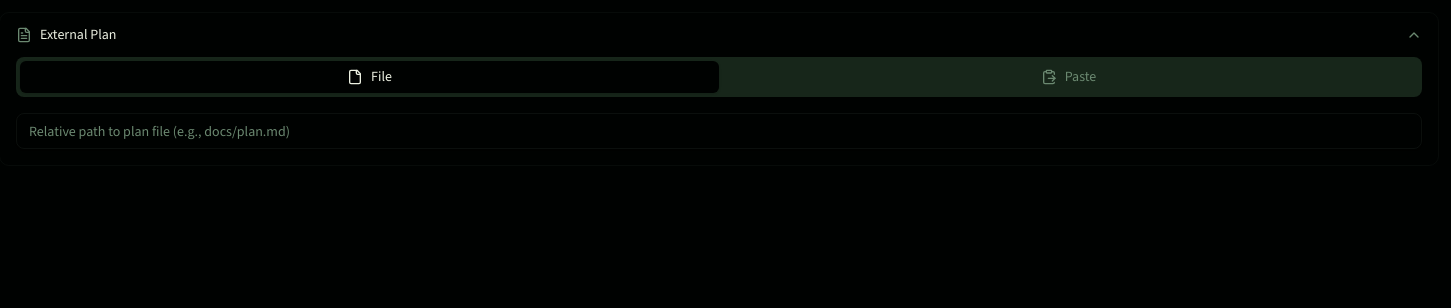
Test case: PlanImportSection › input modes › switches to "Paste Content" mode when toggled
# Click the "Paste" toggle
Step 1. Click the radio button labelled "Paste" → (1068, 77), box [719, 61, 1418, 93]
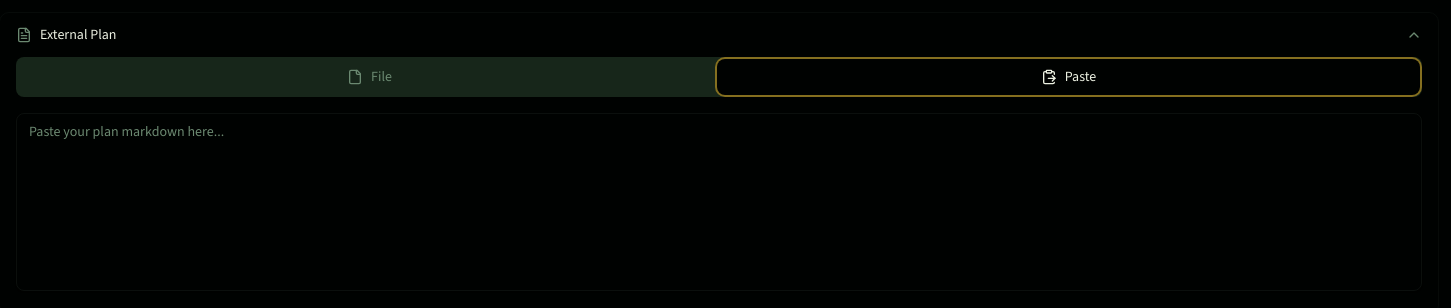
Expected: the field with placeholder "relative path" is not shown
Result: the text box with placeholder "Paste your plan markdown here..." is shown at [16, 113, 1422, 291]
